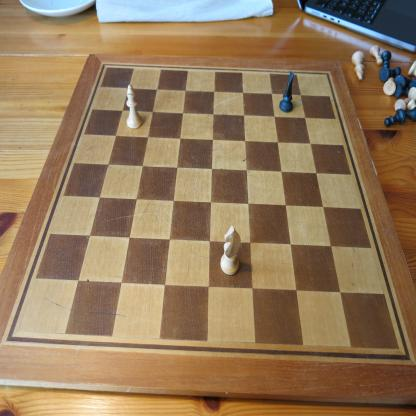black-knight: (279, 70, 295, 114)
white-bishop: (125, 83, 144, 130)
white-knight: (220, 224, 243, 277)
